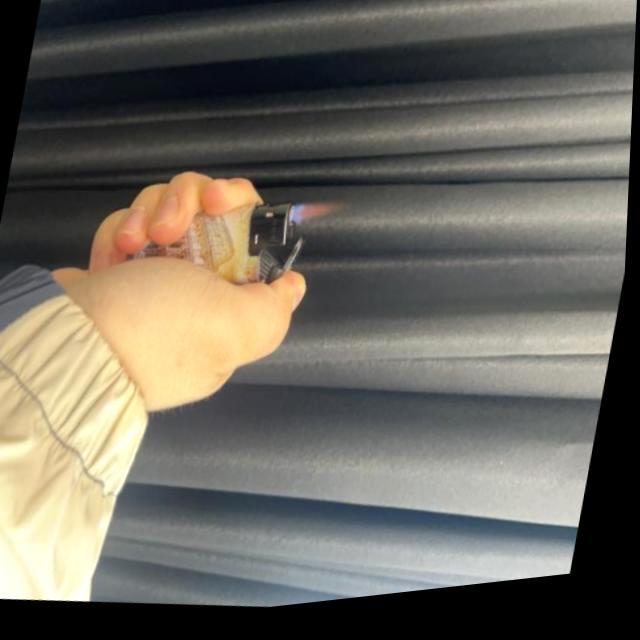fire: (291, 202, 354, 238)
